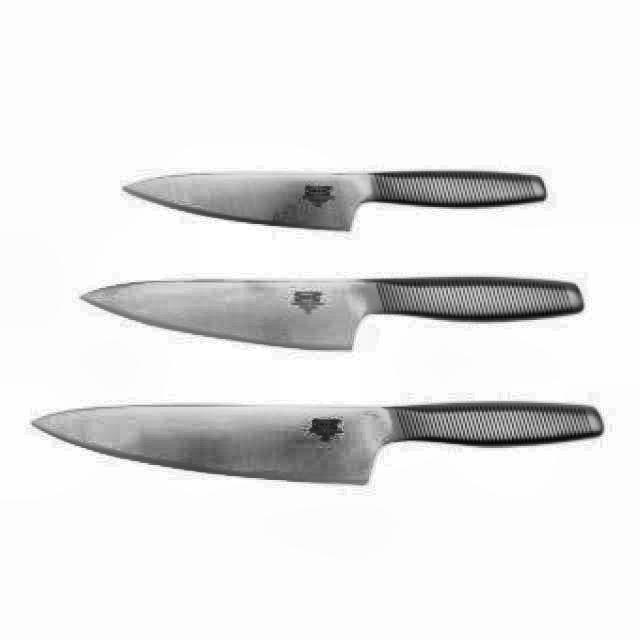knife: (31, 396, 609, 489), (76, 272, 584, 359), (123, 168, 552, 238)
